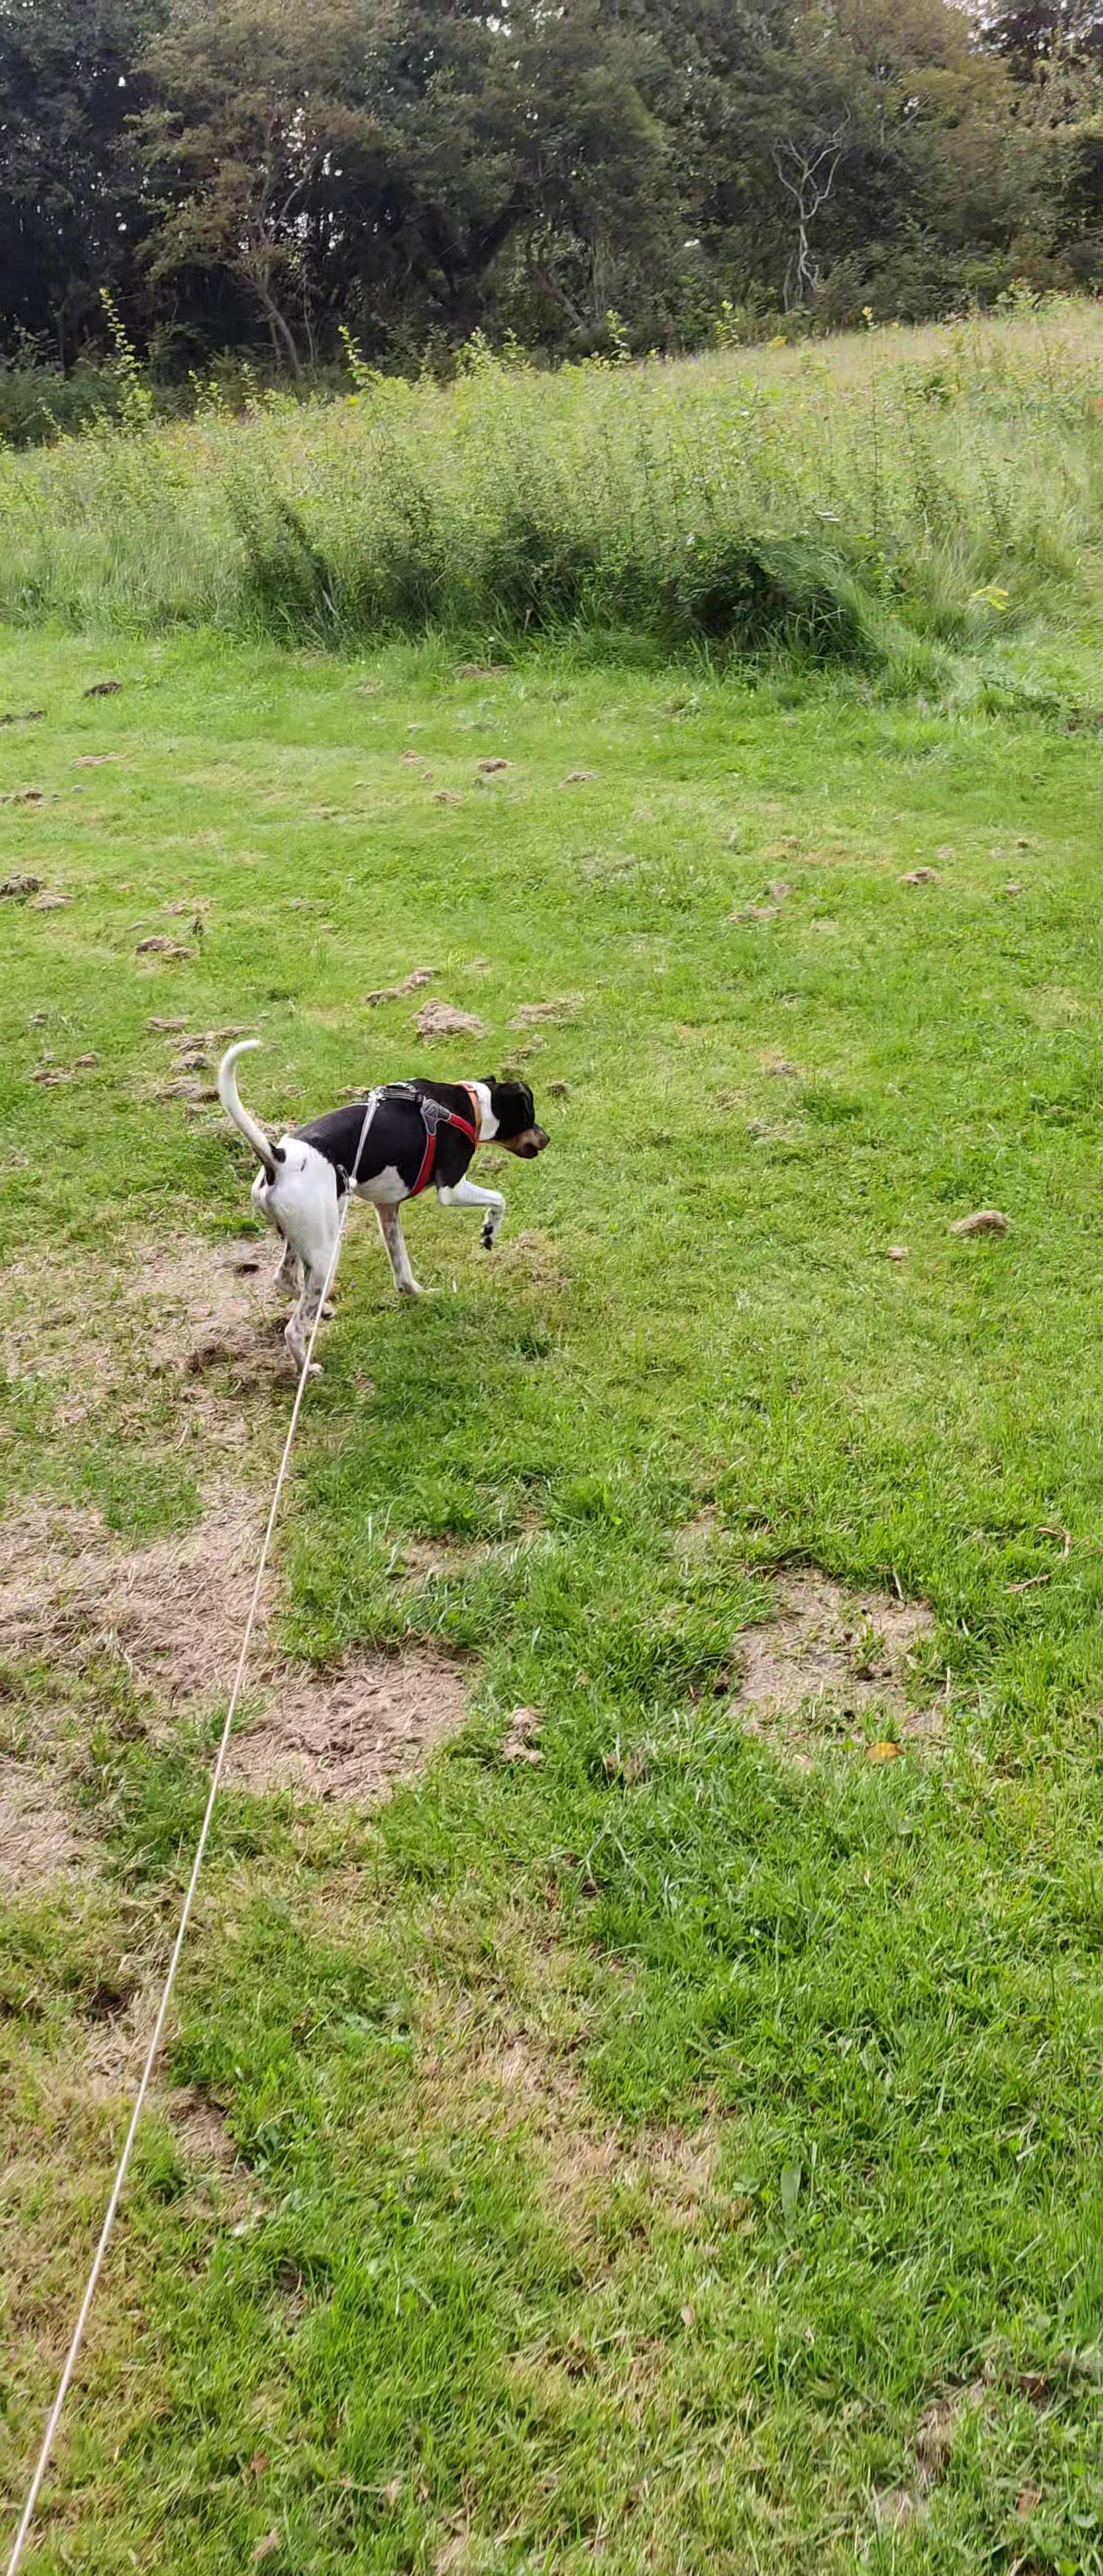Dog: (189, 1025, 565, 1383)
